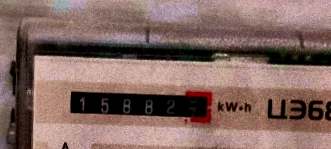1: (75, 93, 87, 111)
2: (163, 96, 176, 115)
5: (97, 95, 109, 113)
7: (185, 104, 197, 116)
8: (118, 95, 131, 113), (141, 96, 153, 114)
screen: (60, 79, 217, 129)
